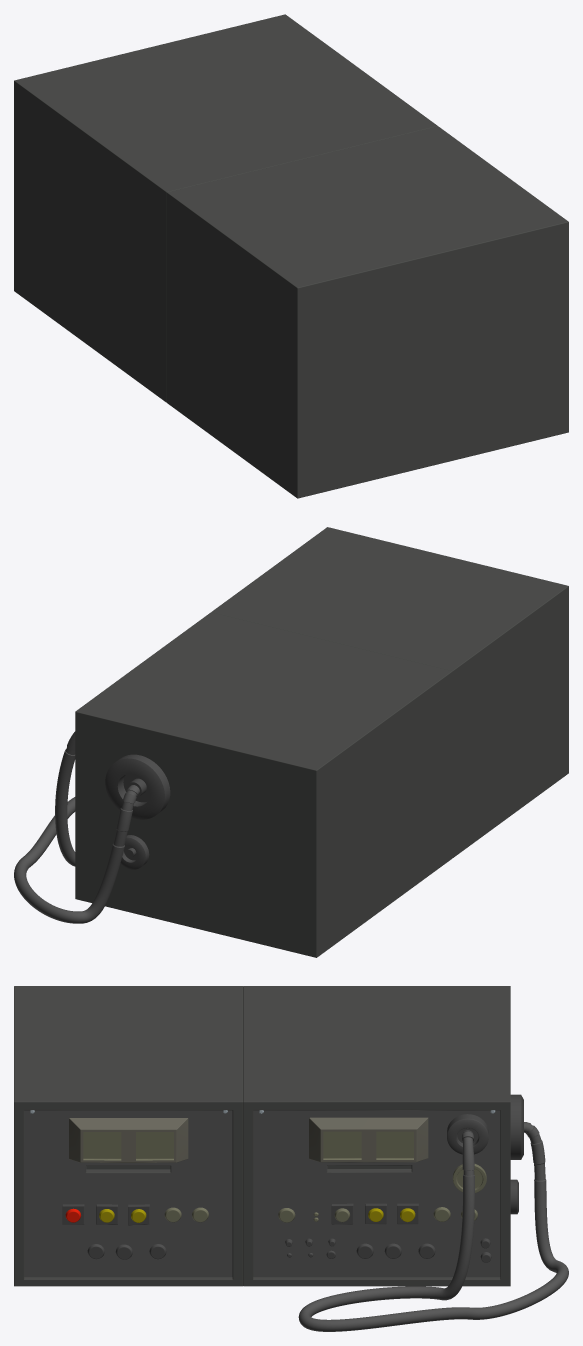
Rendered from Art_005.fbx.
3 views of the same model, one above another, from view 1: azimuth 30°, elevation 25°; view 2: azimuth 150°, elevation 25°; view 3: azimuth 270°, elevation 25° (orthographic). The views are drawn at different scales.
Visible parts, largest first — view 1: Art_005; view 2: Art_005; view 3: Art_005.
Boxes of the visible parts, x1=… form: Art_005: x1=14, y1=14, x2=568, y2=498; Art_005: x1=14, y1=527, x2=568, y2=957; Art_005: x1=14, y1=986, x2=568, y2=1331.
Size of the model in its own units: 155 by 82.3 by 223.
